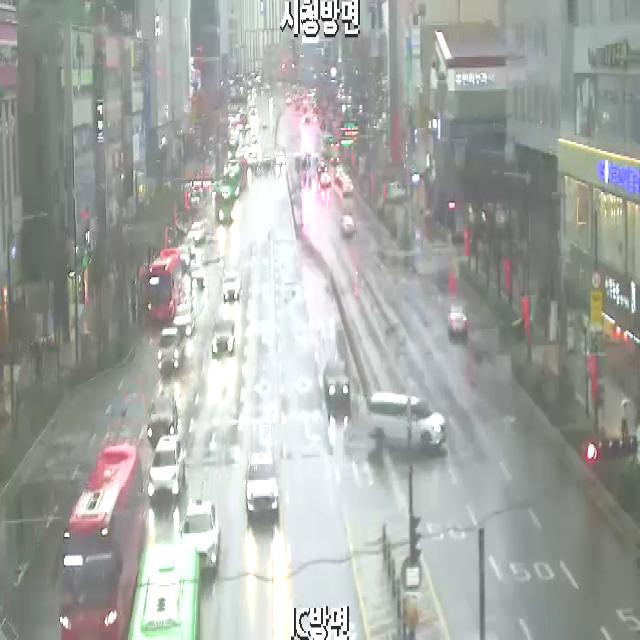Bus: (60, 444, 145, 640), (127, 543, 200, 640), (148, 249, 180, 324), (219, 179, 235, 224), (224, 160, 240, 196)
Car: (368, 392, 445, 452), (180, 500, 218, 572), (148, 436, 185, 502), (245, 454, 278, 521), (147, 396, 177, 442), (323, 358, 351, 402), (157, 328, 185, 370), (212, 319, 235, 355), (172, 304, 195, 336), (448, 306, 467, 337), (223, 272, 239, 300), (188, 222, 205, 244), (340, 215, 357, 236), (190, 265, 207, 286), (177, 245, 190, 269), (184, 238, 195, 256), (342, 179, 354, 195), (320, 172, 331, 188), (334, 165, 344, 182), (339, 173, 349, 186), (317, 162, 327, 175), (276, 153, 286, 166)
